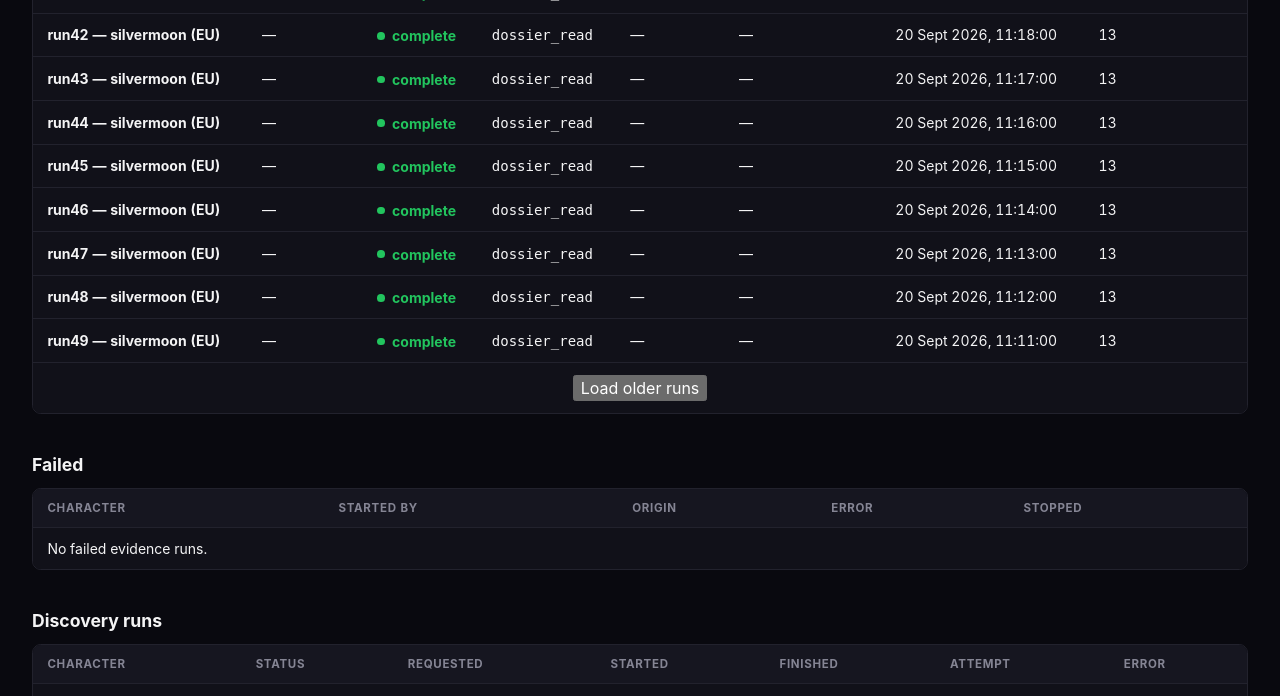
it: CollectionMonitorClient › completed runs › loads the next page of older runs when asked
(page scrolled)
Expected: the text "run55 —" is not shown
Click the button "Load older runs": (640, 388) [573,375,707,401]
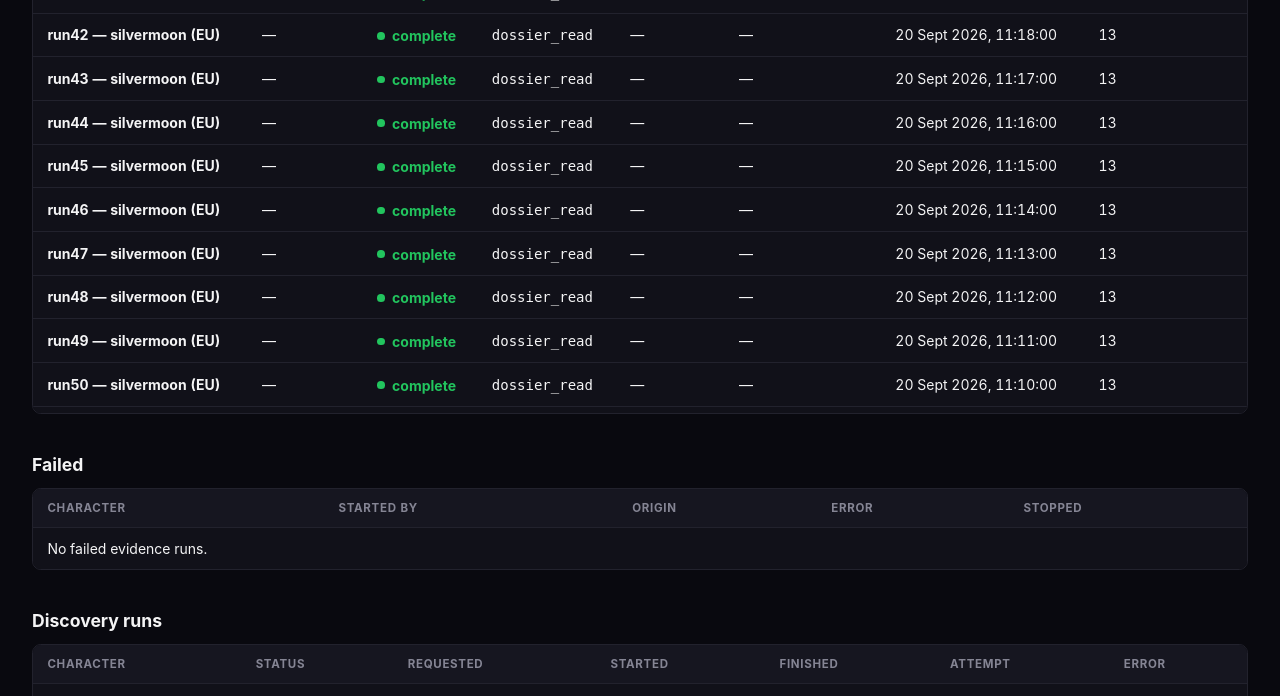
Now the button "Load older runs" is gone
